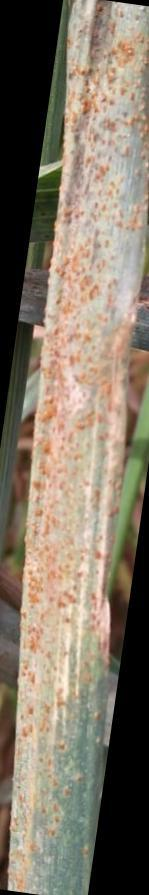Corn: (38, 339, 114, 716), (62, 5, 144, 320), (16, 731, 100, 875)
